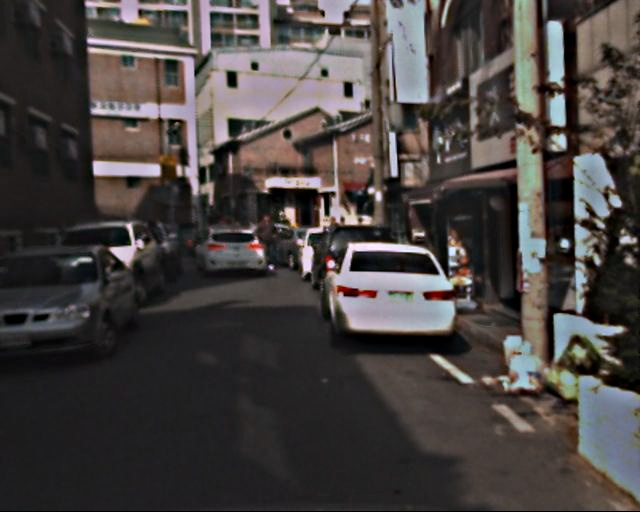person: (252, 212, 277, 277)
